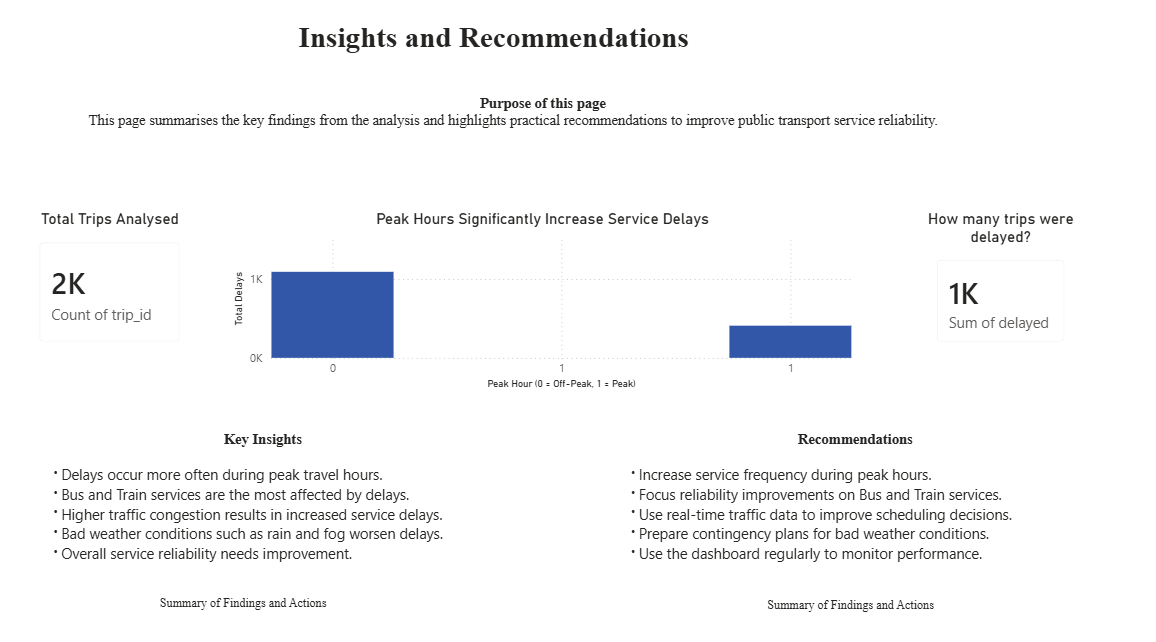

This screenshot's page, from the dashboard's own definition file:
{"tool":"powerbi","page":{"name":"Page 2","canvas":[1280,720],"ordinal":1},"visuals":[{"type":"textbox","box":[324.3,25.7,450,57.1],"z":0},{"type":"cardVisual","title":"How many trips were delayed?","fields":{"Data":["Sum(public_transport_delays.delayed)"]},"box":[1012.9,238.6,174.3,162.9],"z":1000},{"type":"cardVisual","title":"Total Trips Analysed","fields":{"Data":["CountNonNull(public_transport_delays.trip_id)"]},"box":[27.1,238.6,188.6,162.9],"z":2000},{"type":"textbox","box":[149,402,171,150],"z":3000},{"type":"textbox","box":[45.7,477.1,488.6,178.6],"z":4000},{"type":"textbox","box":[678.6,477.1,521.4,178.6],"z":5000},{"type":"clusteredColumnChart","title":"Peak Hours Significantly Increase Service Delays","fields":{"Category":["public_transport_delays.peak_hour"],"Y":["Sum(public_transport_delays.delayed)"]},"box":[252.9,238.6,688.6,202.9],"z":6000},{"type":"textbox","box":[171.4,655.7,235.7,35.7],"z":7000},{"type":"textbox","box":[838.6,658.6,204.3,32.9],"z":8000},{"type":"textbox","box":[88.6,108.6,1015.7,74.3],"z":8001}]}

Visuals, with their boxes in screenshot pixels (x1, y1, x2, y2), scaled from the page's 1280x720 canvas onto the 1156x642 screenshot:
textbox: bbox(293, 23, 699, 74)
"How many trips were delayed?" cardVisual: bbox(915, 213, 1072, 358)
"Total Trips Analysed" cardVisual: bbox(24, 213, 195, 358)
textbox: bbox(135, 358, 289, 492)
textbox: bbox(41, 425, 483, 585)
textbox: bbox(613, 425, 1084, 585)
"Peak Hours Significantly Increase Service Delays" clusteredColumnChart: bbox(228, 213, 850, 394)
textbox: bbox(155, 585, 368, 616)
textbox: bbox(757, 587, 942, 617)
textbox: bbox(80, 97, 997, 163)
